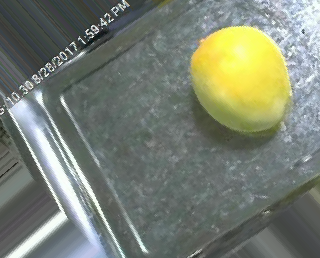Mango: (187, 21, 299, 139)
